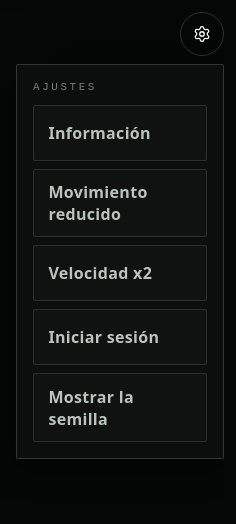
Test: SettingsMenu › no enseña la semilla hasta que se pide
Check: the text "K3F9Z" is not shown
Click the button "Mostrar la semilla" at x=120, y=408, box x1=33 y1=373 x2=207 y2=442
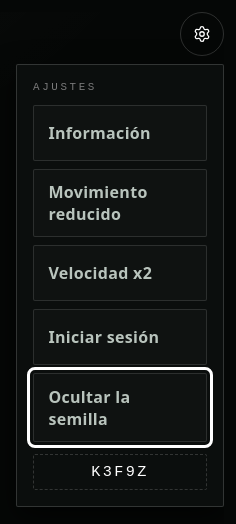
Check: the text "K3F9Z" is shown, box x1=33 y1=454 x2=207 y2=490
